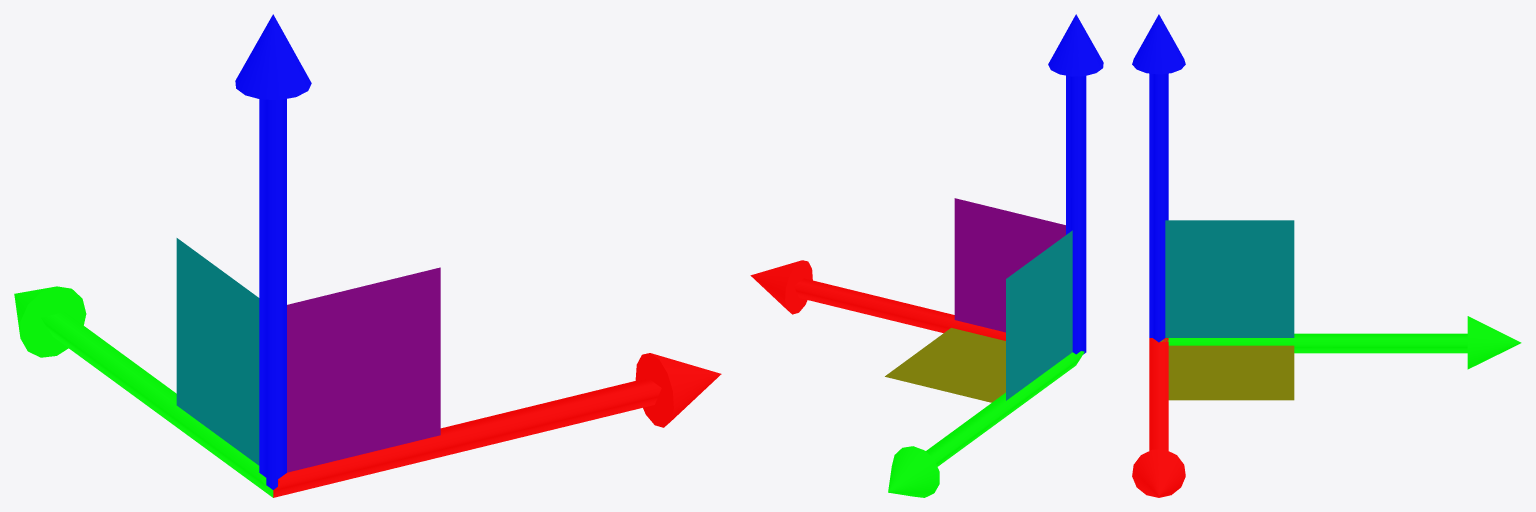
File: basis_translation.DAE
3 renders of one model, left to right at view 1: azimuth 30°, elevation 25°; view 2: azimuth 150°, elevation 25°; view 3: azimuth 270°, elevation 25°, orthographic. The views are drawn at different scales.
Visible parts, largest first — view 1: Plane002, Plane003, Cylinder002, Cylinder001, Cylinder003, Cone001, Cone002, Cone003; view 2: Plane002, Plane003, Plane001, Cylinder002, Cylinder001, Cylinder003, Cone003, Cone001, Cone002; view 3: Plane003, Plane001, Cylinder002, Cylinder003, Cylinder001, Cone002, Cone001, Cone003.
Part boxes in pixels (x1=…): Plane002: x1=287, y1=267, x2=440, y2=472; Plane003: x1=176, y1=238, x2=259, y2=465; Cylinder002: x1=259, y1=99, x2=286, y2=489; Cylinder001: x1=273, y1=378, x2=661, y2=497; Cylinder003: x1=41, y1=312, x2=273, y2=497; Cone001: x1=235, y1=14, x2=311, y2=100; Cone002: x1=635, y1=353, x2=721, y2=427; Cone003: x1=14, y1=286, x2=86, y2=357; Plane002: x1=954, y1=198, x2=1065, y2=332; Plane003: x1=1006, y1=230, x2=1072, y2=400; Plane001: x1=885, y1=328, x2=1005, y2=402; Cylinder002: x1=1066, y1=75, x2=1086, y2=354; Cylinder001: x1=794, y1=278, x2=1005, y2=340; Cylinder003: x1=926, y1=351, x2=1084, y2=466; Cone003: x1=888, y1=446, x2=939, y2=497; Cone001: x1=1048, y1=14, x2=1103, y2=76; Cone002: x1=750, y1=260, x2=812, y2=314; Plane003: x1=1165, y1=220, x2=1294, y2=337; Plane001: x1=1168, y1=345, x2=1294, y2=400; Cylinder002: x1=1149, y1=73, x2=1168, y2=342; Cylinder003: x1=1161, y1=333, x2=1467, y2=353; Cylinder001: x1=1149, y1=338, x2=1168, y2=450; Cone002: x1=1132, y1=449, x2=1185, y2=497; Cone001: x1=1132, y1=14, x2=1185, y2=74; Cone003: x1=1467, y1=316, x2=1521, y2=369.
Size of the model in its own units: 71.85 by 71.96 by 72.
